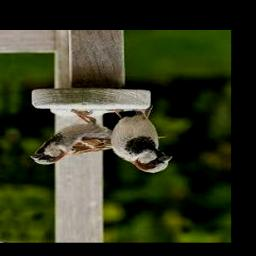Sparrow: (28, 110, 165, 165), (107, 110, 173, 174)
